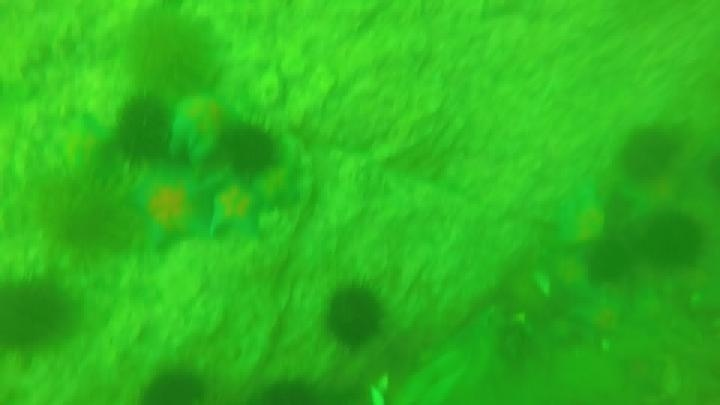echinus: (121, 5, 222, 98), (122, 166, 220, 253), (35, 171, 126, 254), (165, 87, 248, 166), (1, 271, 77, 356), (112, 92, 176, 166), (322, 281, 387, 350), (640, 210, 707, 270), (218, 121, 282, 179), (618, 125, 681, 183), (138, 366, 210, 404), (584, 236, 634, 287), (257, 375, 324, 405)
starfish: (122, 165, 222, 253), (165, 87, 249, 165), (51, 112, 117, 179), (546, 185, 611, 250), (206, 181, 269, 241), (569, 296, 628, 349), (246, 156, 302, 209)
